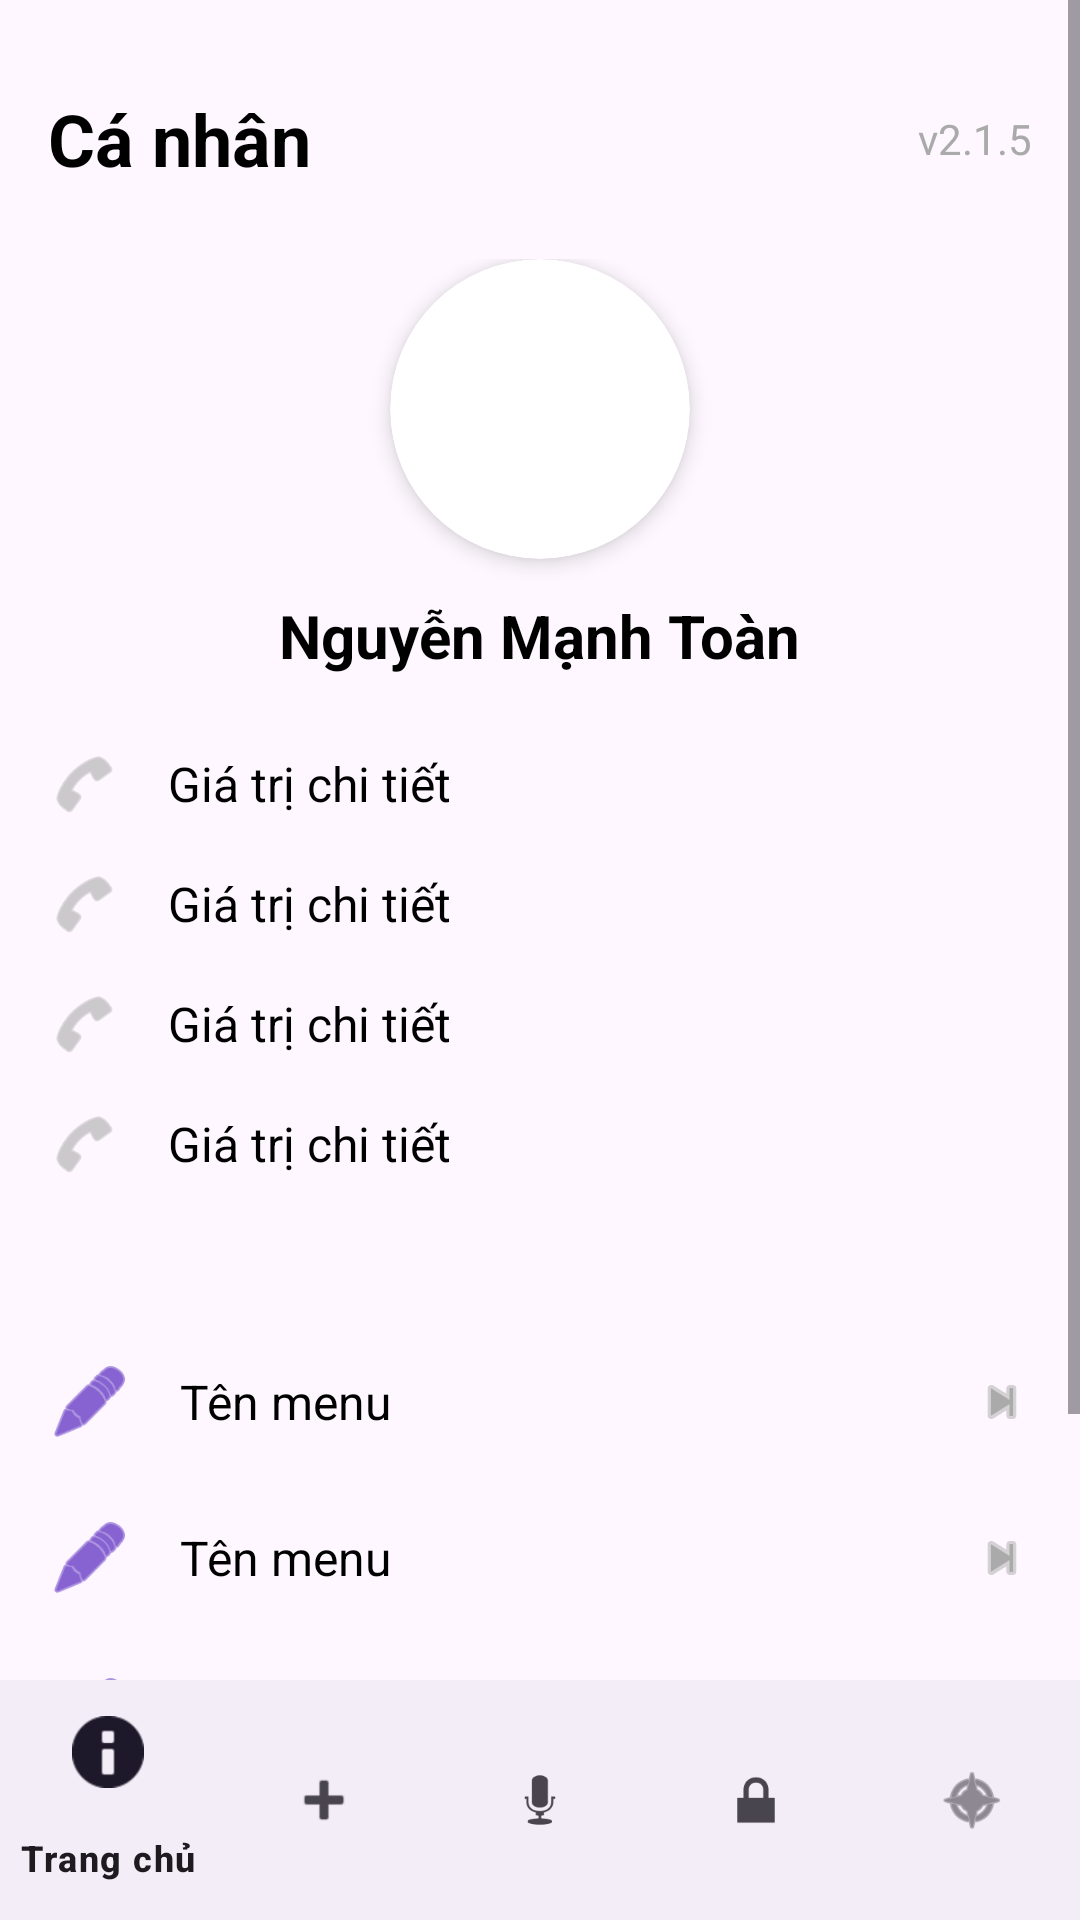

Point at icon controls on the screen. Image size 1080px×1920px, points as point (x, y).
Mũi tên: point (1002, 1402), point (1002, 1558)
